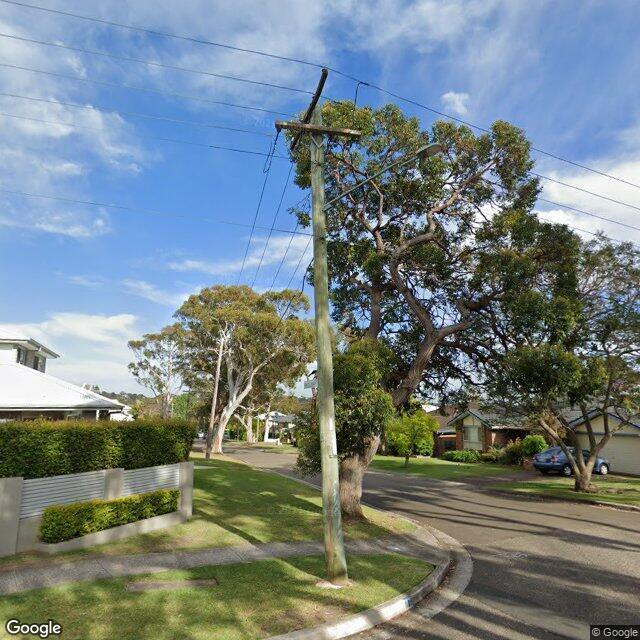crossarm: (286, 66, 329, 158), (274, 119, 362, 140)
streetlight: (326, 140, 444, 214)
timber-pole: (309, 97, 348, 584), (206, 337, 224, 461)
